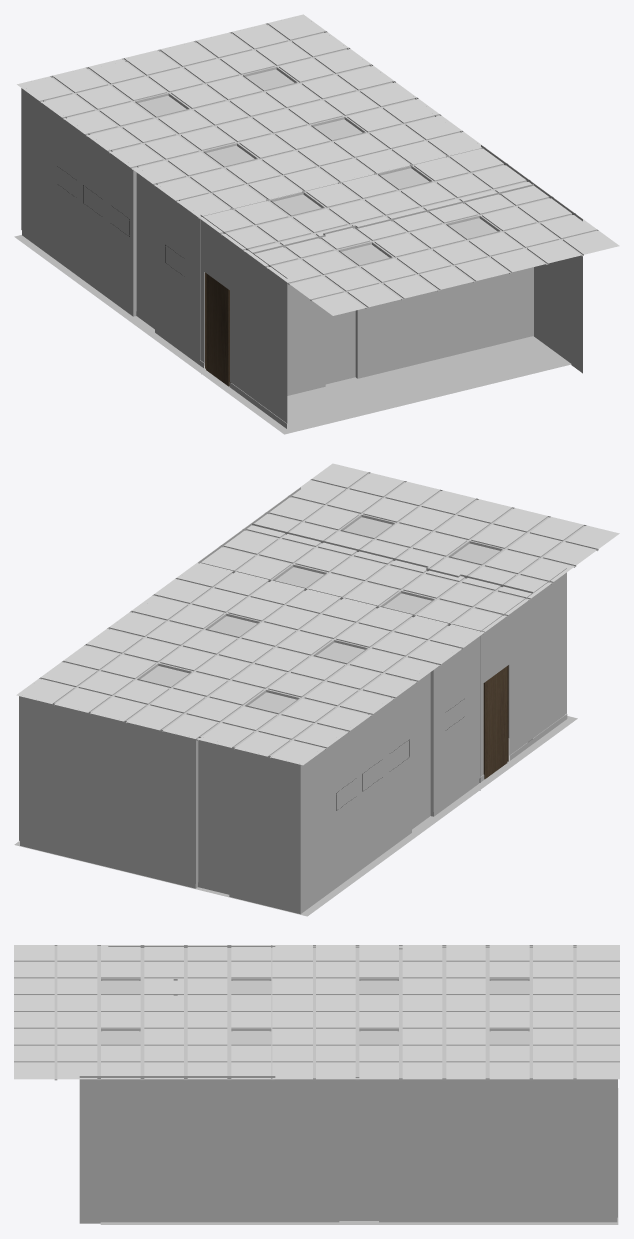
File: Palestra 1.fbx
3 renders of one model, top to bottom at view 1: azimuth 30°, elevation 25°; view 2: azimuth 150°, elevation 25°; view 3: azimuth 270°, elevation 25°, orthographic. The views are drawn at different scales.
Visible parts, largest first — view 1: Soffitto, Stanza; view 2: Soffitto, Stanza; view 3: Soffitto, Stanza.
Part boxes in pixels (x1,y1,x2,y2): Soffitto: [17, 14, 619, 315]; Stanza: [14, 24, 582, 434]; Soffitto: [16, 463, 619, 765]; Stanza: [14, 487, 577, 916]; Soffitto: [14, 945, 619, 1080]; Stanza: [79, 946, 618, 1224].
Size of the model in its own units: 630 by 330 by 1179.
